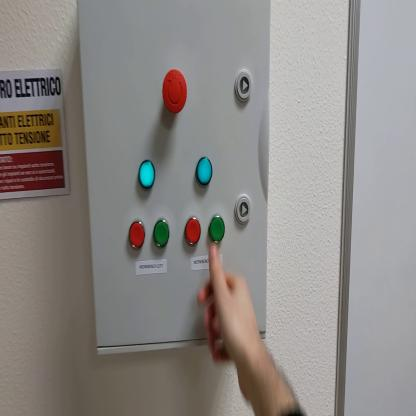hand: (200, 244, 262, 371)
left green button: (153, 218, 171, 247)
left red button: (130, 218, 147, 250)
right green button: (208, 216, 225, 242)
right red button: (187, 215, 202, 249)
